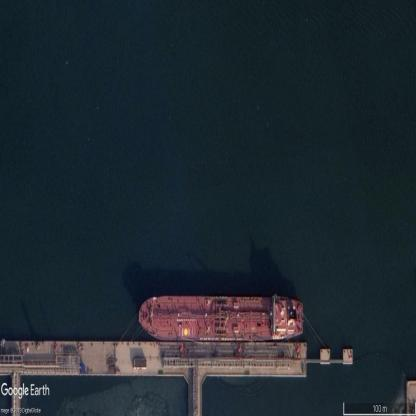ship: (134, 297, 305, 340)
